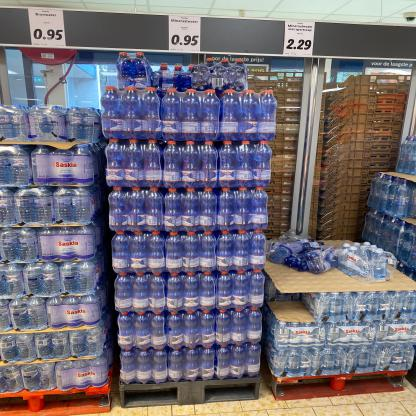prtg: (29, 10, 67, 47), (170, 17, 202, 52), (284, 22, 316, 57)
